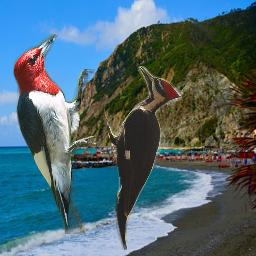Woodpecker: (12, 34, 96, 234), (97, 66, 181, 250)
